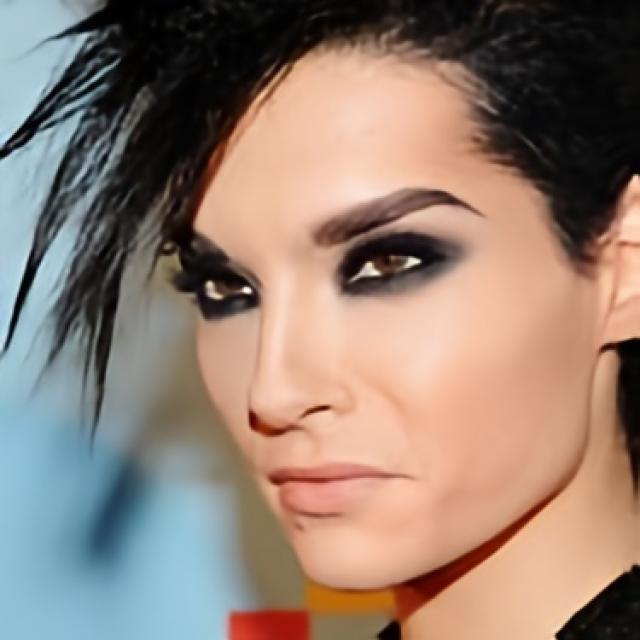content: (181, 39, 589, 591)
